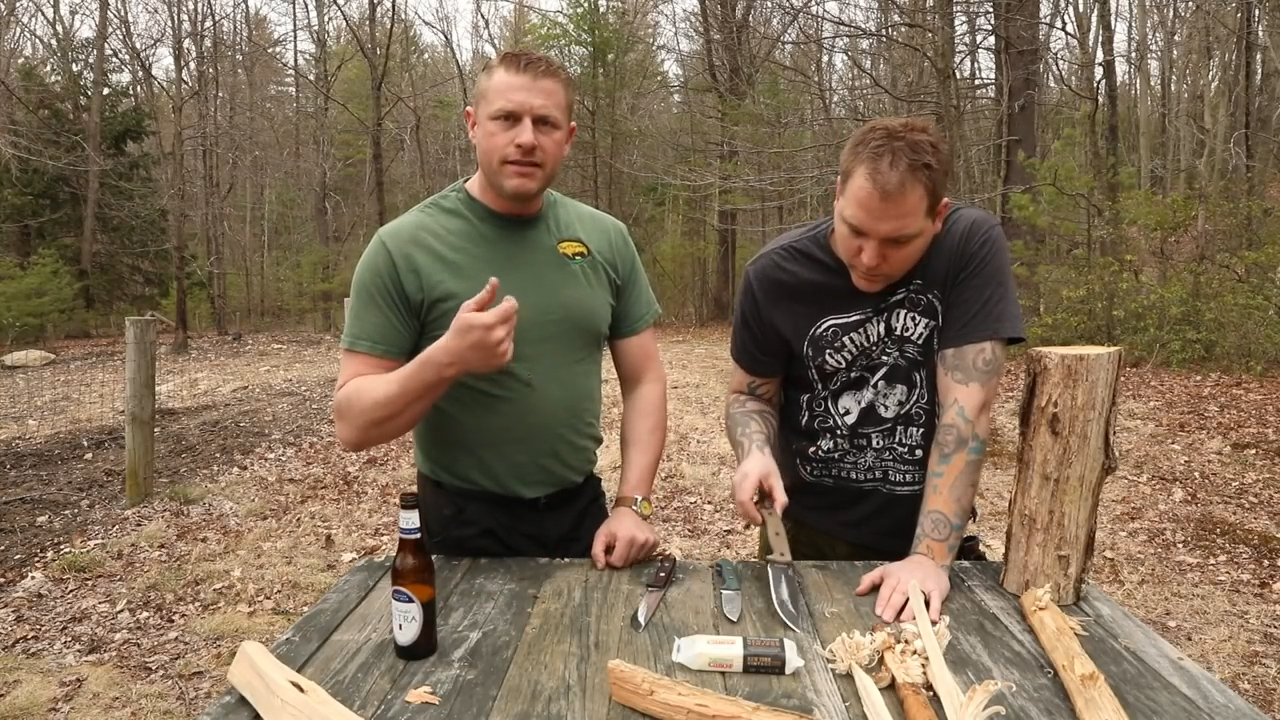knife: (742, 468, 821, 633)
